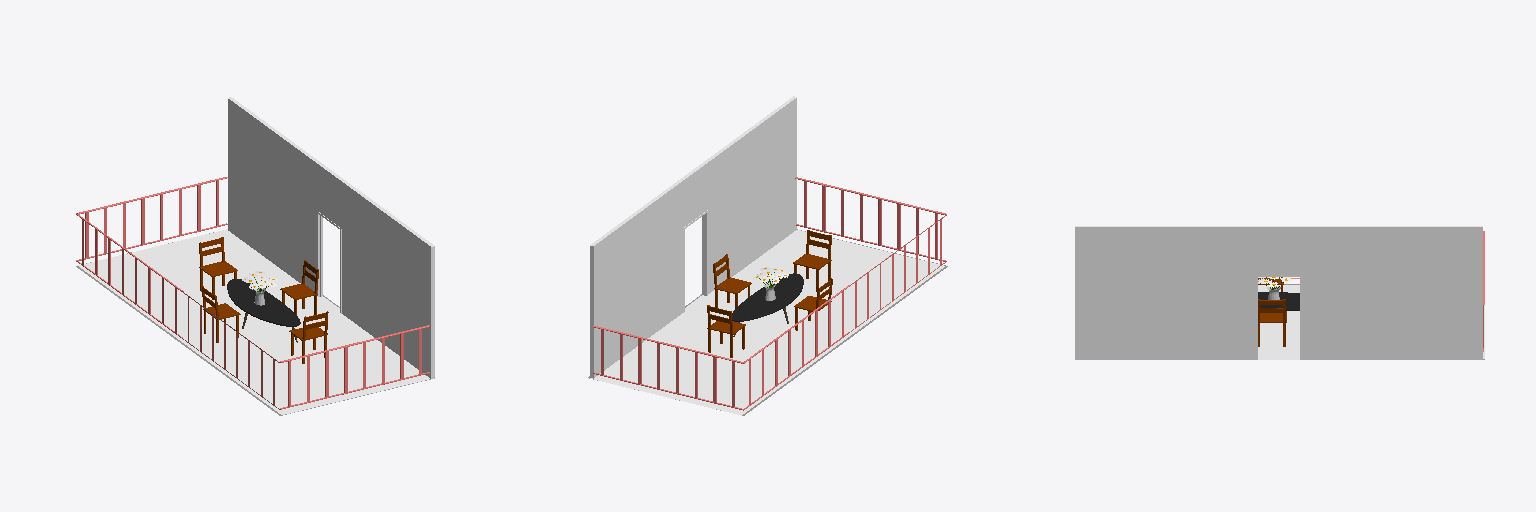
The model's file is Terraza.obj.
The picture shows the model from 3 angles: view 1: azimuth 30°, elevation 25°; view 2: azimuth 150°, elevation 25°; view 3: azimuth 270°, elevation 25°; orthographic projection.
Visible parts, largest first — view 1: wall_1_4, room_2_8, Table_32, Railings_16, Railings_11, Railings_21, Railings_26, Montant_9; view 2: wall_1_4, room_2_8, Table_32, Railings_16, Railings_11, Railings_21, Railings_26, Montant_9; view 3: wall_1_5, room_2_8, Montant_9.
Part boxes in pixels (left/top/right/bottom): wall_1_4: left=228, top=99, right=432, bottom=378; room_2_8: left=78, top=229, right=435, bottom=414; Table_32: left=228, top=279, right=300, bottom=325; Railings_16: left=288, top=329, right=421, bottom=406; Railings_11: left=85, top=181, right=218, bottom=257; Railings_21: left=82, top=219, right=176, bottom=333; Railings_26: left=188, top=297, right=274, bottom=404; Montant_9: left=317, top=211, right=341, bottom=313; wall_1_4: left=592, top=98, right=796, bottom=378; room_2_8: left=590, top=230, right=944, bottom=415; Table_32: left=732, top=273, right=802, bottom=320; Railings_16: left=804, top=181, right=937, bottom=258; Railings_11: left=601, top=329, right=734, bottom=406; Railings_21: left=749, top=291, right=843, bottom=404; Railings_26: left=855, top=219, right=941, bottom=327; Montant_9: left=684, top=210, right=707, bottom=311; wall_1_5: left=1075, top=227, right=1482, bottom=359; room_2_8: left=1258, top=285, right=1484, bottom=359; Montant_9: left=1255, top=275, right=1302, bottom=359.
Bounding box in the file's own units: 309 × 250 × 702.